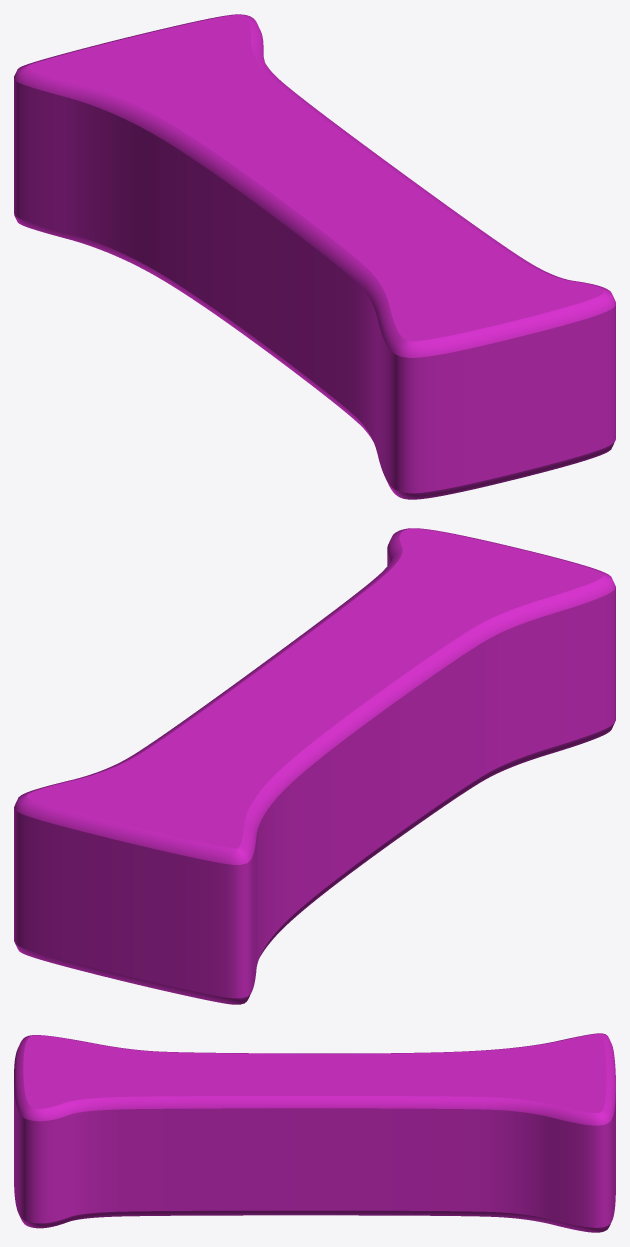
File: Bubble_LetterI.fbx
The picture shows the model from 3 angles, top to bottom: view 1: azimuth 30°, elevation 25°; view 2: azimuth 150°, elevation 25°; view 3: azimuth 270°, elevation 25°; orthographic projection. The views are drawn at different scales.
Parts seen in each view (by area): view 1: BubbleLetter_I; view 2: BubbleLetter_I; view 3: BubbleLetter_I.
Part boxes in pixels (x1,y1,x2,y2): BubbleLetter_I: (14, 14, 615, 499); BubbleLetter_I: (14, 528, 615, 1004); BubbleLetter_I: (14, 1033, 615, 1232).
Size of the model in its own units: 0.2206 by 0.14 by 0.6406.
